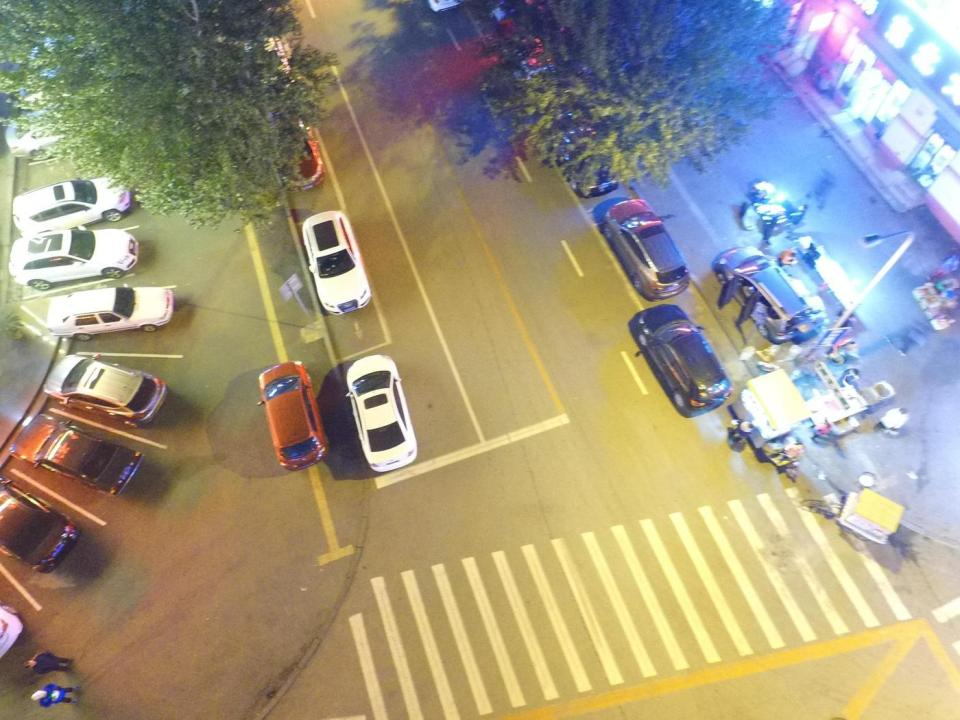car: (9, 413, 145, 498), (636, 304, 733, 412), (715, 245, 816, 343), (603, 198, 690, 301), (42, 354, 167, 423), (346, 353, 418, 472), (8, 228, 139, 290), (0, 474, 80, 574), (259, 360, 329, 471), (12, 174, 130, 238), (302, 209, 371, 316), (4, 101, 115, 160), (46, 286, 174, 337), (259, 104, 326, 193), (551, 111, 618, 198), (0, 604, 23, 662)
